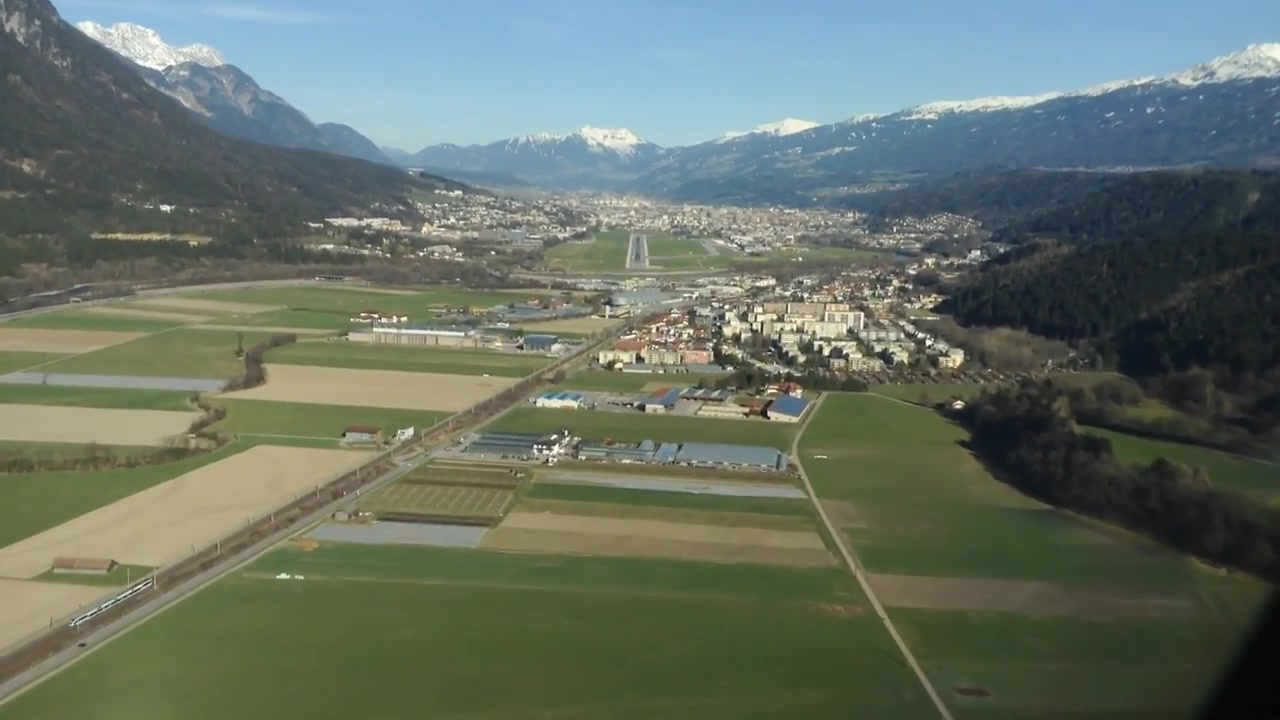runway: (623, 233, 651, 269)
